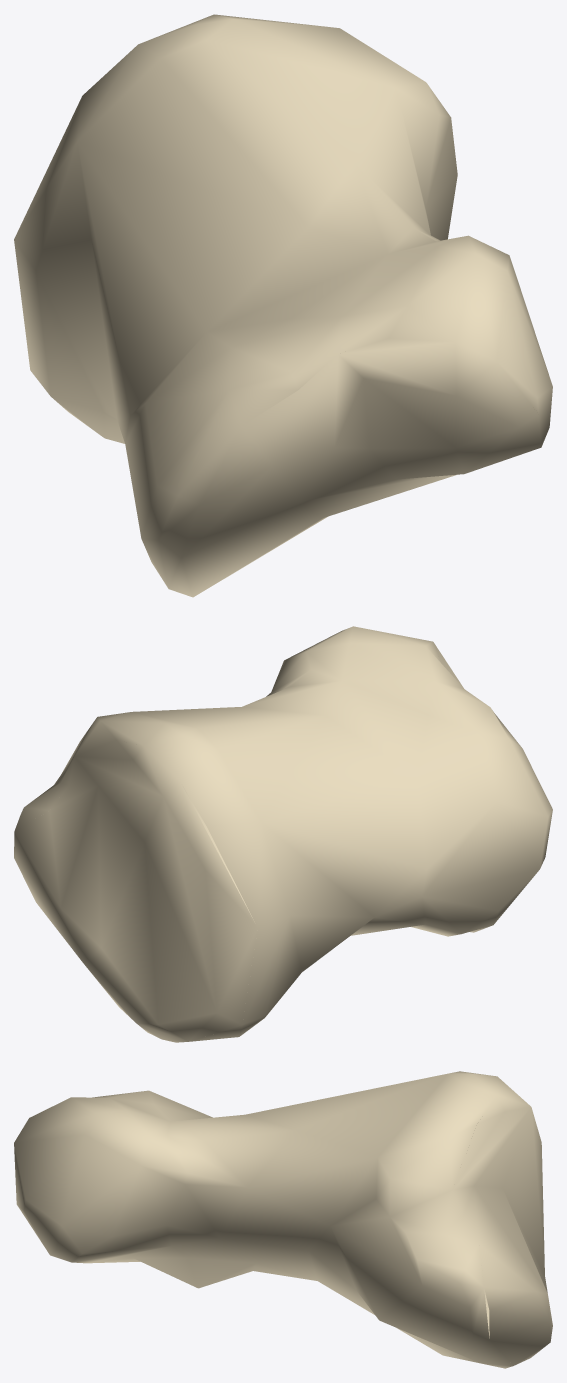
File: esqueleto-middle-phalanx-of-fourth-finger-of-foot-r.glb
3 renders of one model, top to bottom at view 1: azimuth 30°, elevation 25°; view 2: azimuth 150°, elevation 25°; view 3: azimuth 270°, elevation 25°, orthographic. The views are drawn at different scales.
Visible parts, largest first — view 1: Middle phalanx of fourth finger of foot.r; view 2: Middle phalanx of fourth finger of foot.r; view 3: Middle phalanx of fourth finger of foot.r.
Boxes of the visible parts, <box> form: Middle phalanx of fourth finger of foot.r: <box>14,14,552,597</box>; Middle phalanx of fourth finger of foot.r: <box>14,626,552,1042</box>; Middle phalanx of fourth finger of foot.r: <box>14,1071,552,1368</box>.
Bounding box in the file's own units: 0.0111 × 0.00834 × 0.0141.
